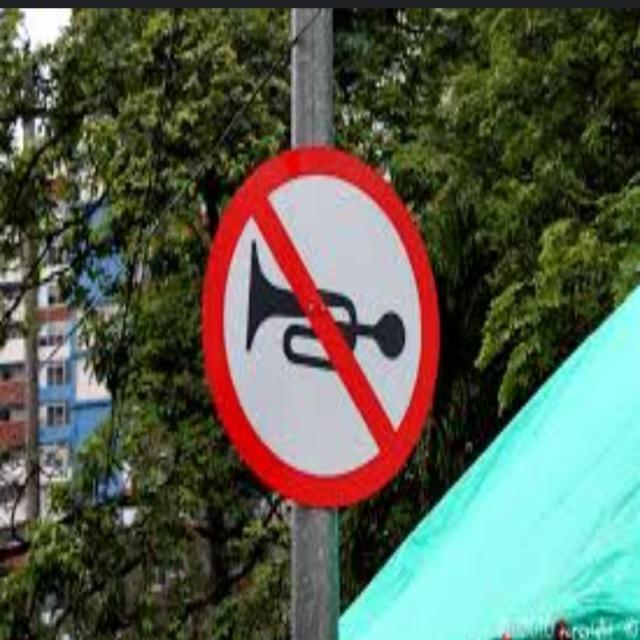horn prohibited: (197, 148, 441, 510)
